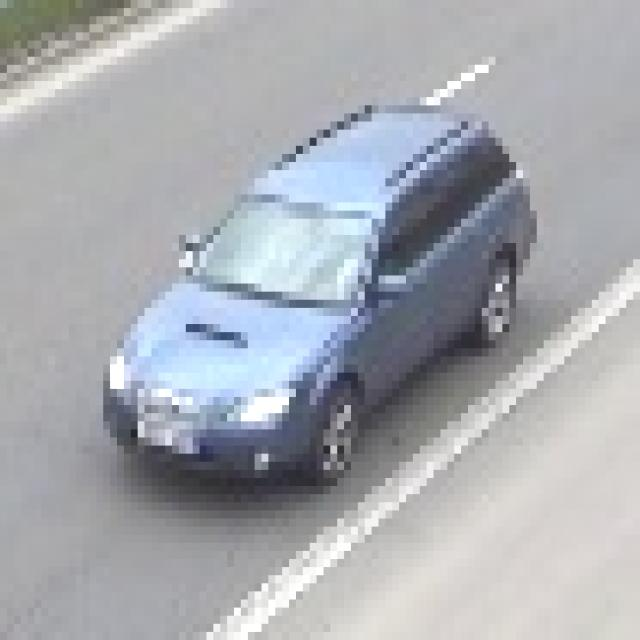SUV: (116, 118, 504, 476)
